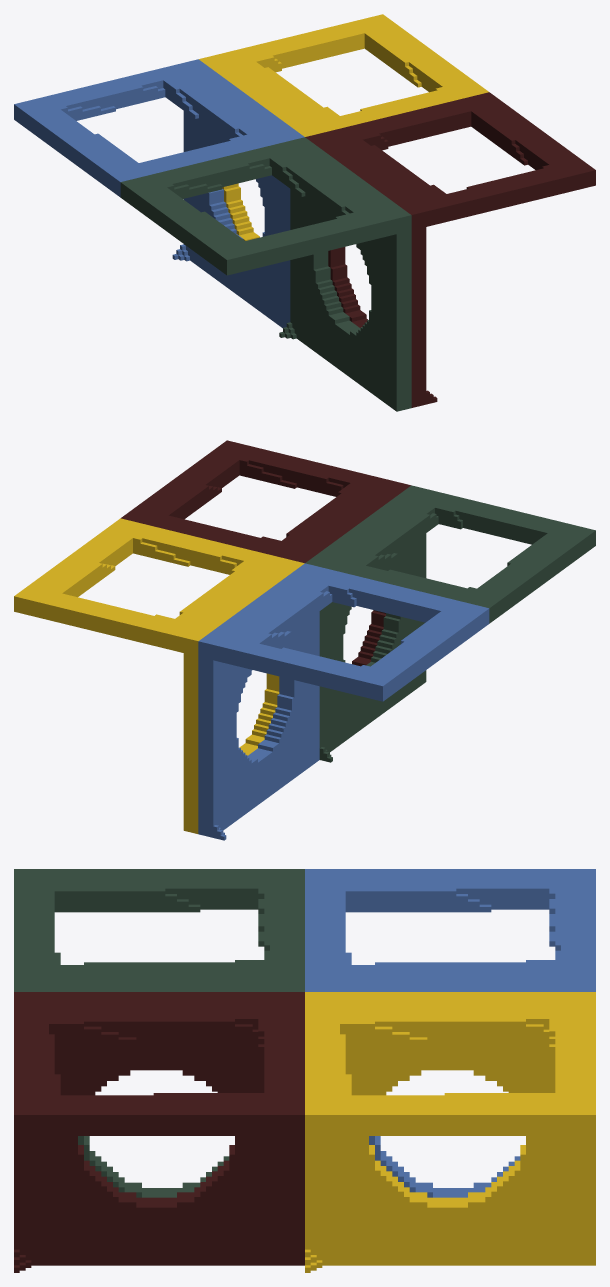
The model's file is chunk-model-0-1.gltf.
3 renders of one model, top to bottom at view 1: azimuth 30°, elevation 25°; view 2: azimuth 150°, elevation 25°; view 3: azimuth 270°, elevation 25°, orthographic. The views are drawn at different scales.
Visible parts, largest first — view 1: 00-Local, 00-Local.001, 00-Local.002, 00-Local.003; view 2: 00-Local.001, 00-Local, 00-Local.003, 00-Local.002; view 3: 00-Local.002, 00-Local.003, 00-Local, 00-Local.001.
Part boxes in pixels (x1,y1,x2,y2): 00-Local: (120,137,411,411); 00-Local.001: (14,59,304,328); 00-Local.002: (305,92,595,407); 00-Local.003: (199,14,488,240); 00-Local.001: (198,563,489,840); 00-Local: (305,485,595,762); 00-Local.003: (14,518,304,833); 00-Local.002: (121,440,410,666); 00-Local.002: (14,992,304,1272); 00-Local.003: (305,992,595,1272); 00-Local: (14,869,304,1197); 00-Local.001: (305,869,595,1197).
Bounding box in the file's own units: 100 × 50 × 100.
4 materials, 4 textured.
